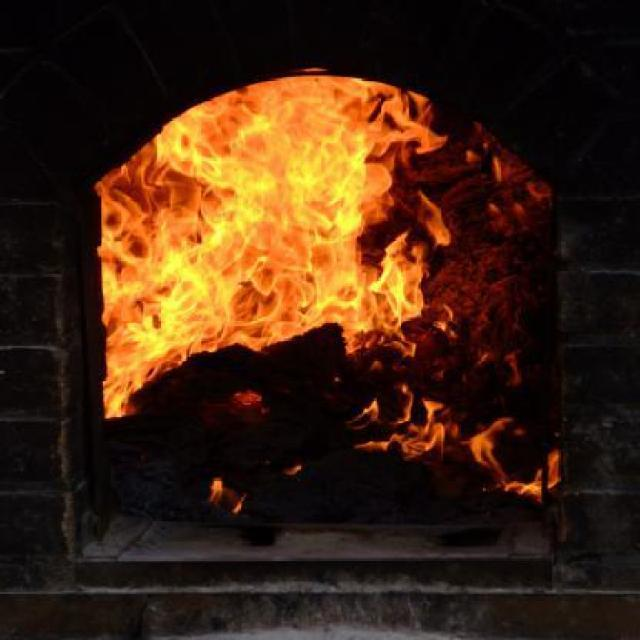Fire: (211, 88, 364, 348), (370, 85, 447, 361), (390, 383, 513, 472), (452, 128, 494, 384), (166, 118, 211, 348), (107, 258, 170, 374), (94, 152, 160, 252), (476, 231, 522, 374), (476, 470, 559, 512), (488, 188, 550, 232), (350, 398, 392, 450), (204, 470, 247, 518), (469, 152, 520, 188), (101, 371, 134, 418), (540, 448, 562, 488), (235, 389, 262, 411)
